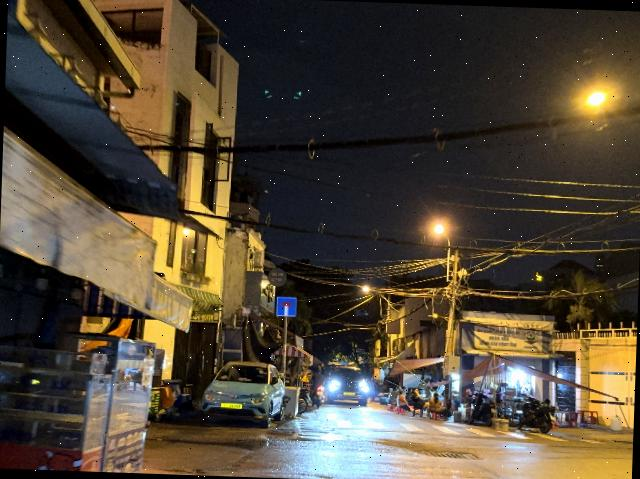duong-cut: (277, 297, 296, 316)
